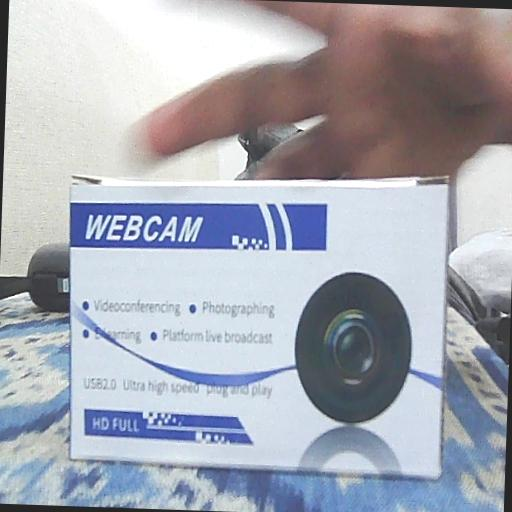webcam_box: (60, 162, 456, 479)
